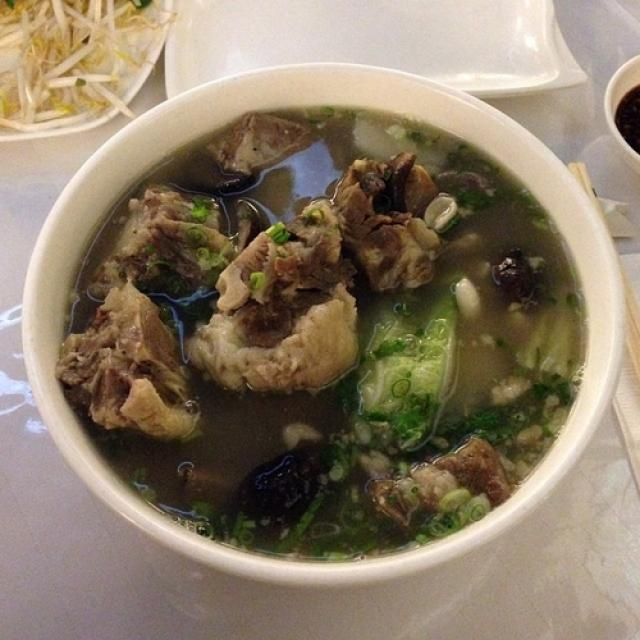汤锅炖物: (50, 47, 585, 594)
